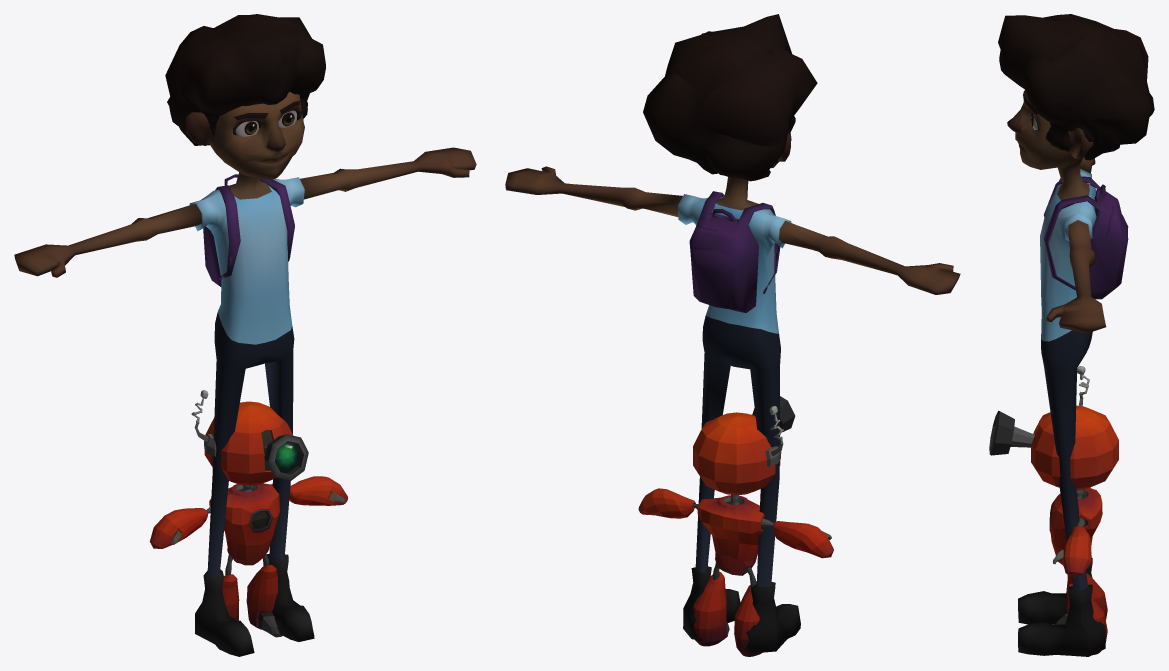
Rendered from ChildandRobotSize.fbx.
The picture shows the model from 3 angles, left to right: view 1: azimuth 30°, elevation 25°; view 2: azimuth 150°, elevation 25°; view 3: azimuth 270°, elevation 25°; orthographic projection. The views are drawn at different scales.
Visible parts, largest first — view 1: Child, Robot; view 2: Child, Robot; view 3: Child, Robot.
Boxes of the visible parts, x1=… form: Child: x1=14, y1=14, x2=476, y2=656; Robot: x1=149, y1=390, x2=347, y2=637; Child: x1=505, y1=14, x2=960, y2=653; Robot: x1=638, y1=396, x2=833, y2=656; Child: x1=998, y1=14, x2=1154, y2=656; Robot: x1=989, y1=366, x2=1118, y2=655.
Bounding box in the file's own units: 463 × 601 × 145.
